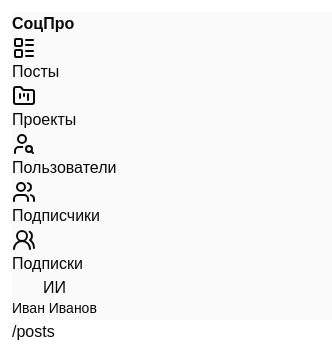
Test: AppSidebar — переходы по роутам › переходит на /projects при клике «Проекты»
The image size is (332, 357).
Click the link "Проекты": (12, 84) [12, 84, 76, 128]
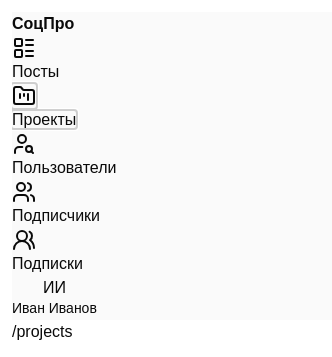
Check: the text with test id "nav-current-path" reads "/projects", box [12, 323, 72, 340]
